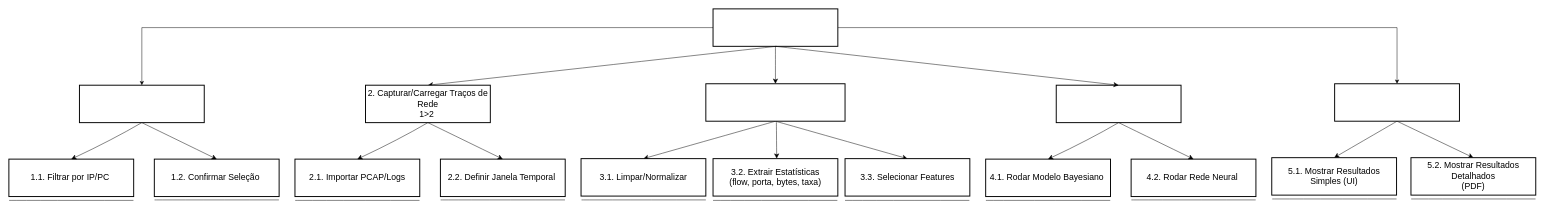
This 1544x209 diagram has some shape labels left out. The centre of each missing label's shape, as x and y in pixels:
0. Analisar dispositivo da Rede 1>2>3>4>5: the point at 775,27
1. Selecionar Dispositivo 1>2: the point at 141,103
3. Pré-processar & Extrair Features 1>3: the point at 775,102
4. Classificar (Bayes + DNN) 1>2: the point at 1118,103
5. Visualizar Resultado 1/2: the point at 1397,102
